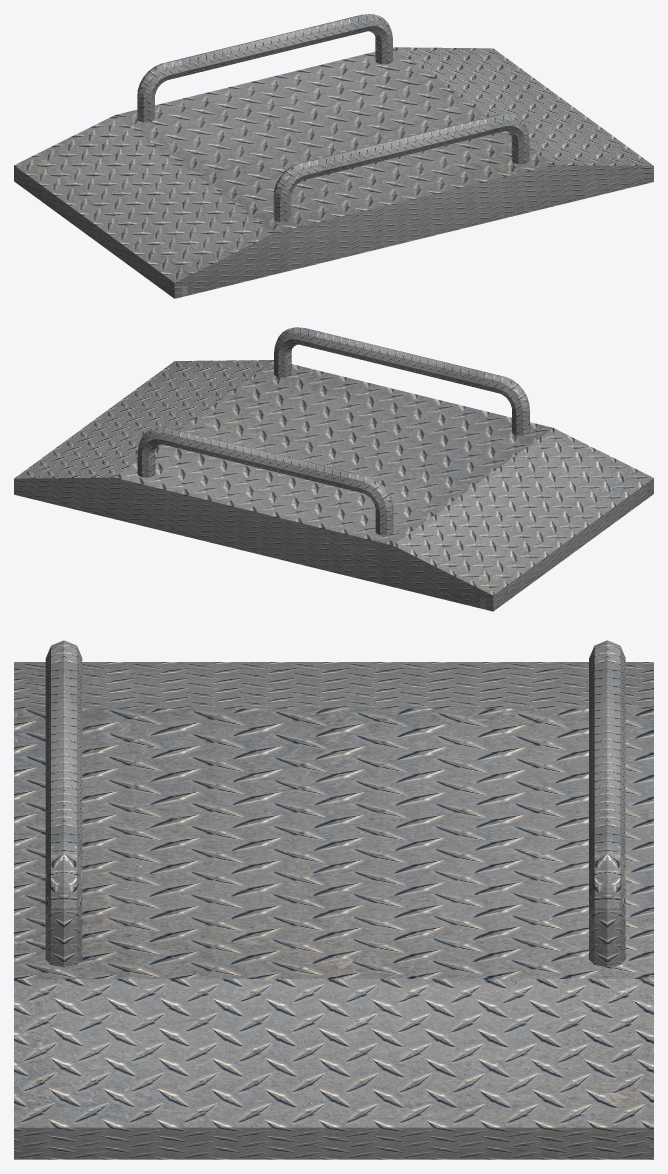
Rendered from platform.fbx.
3 views of the same model, one above another, from view 1: azimuth 30°, elevation 25°; view 2: azimuth 150°, elevation 25°; view 3: azimuth 270°, elevation 25° (orthographic). The views are drawn at different scales.
Visible parts, largest first — view 1: Cube; view 2: Cube; view 3: Cube.
Boxes of the visible parts, x1,y1,x2,y2 form: Cube: [14, 14, 653, 298]; Cube: [14, 327, 653, 611]; Cube: [14, 640, 653, 1159].
Bounding box in the file's own units: 2412 × 444 × 1400.
Materials: 1 (1 with a texture image).
